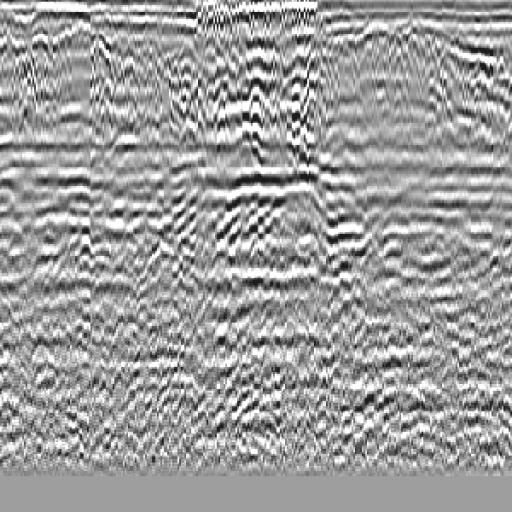non-metallic: (86, 33, 124, 107)
